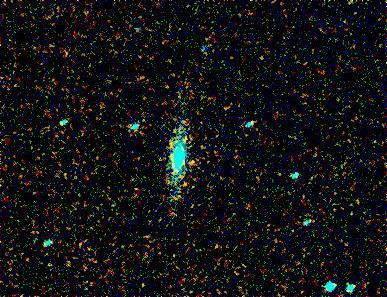star: (176, 148, 206, 178)
